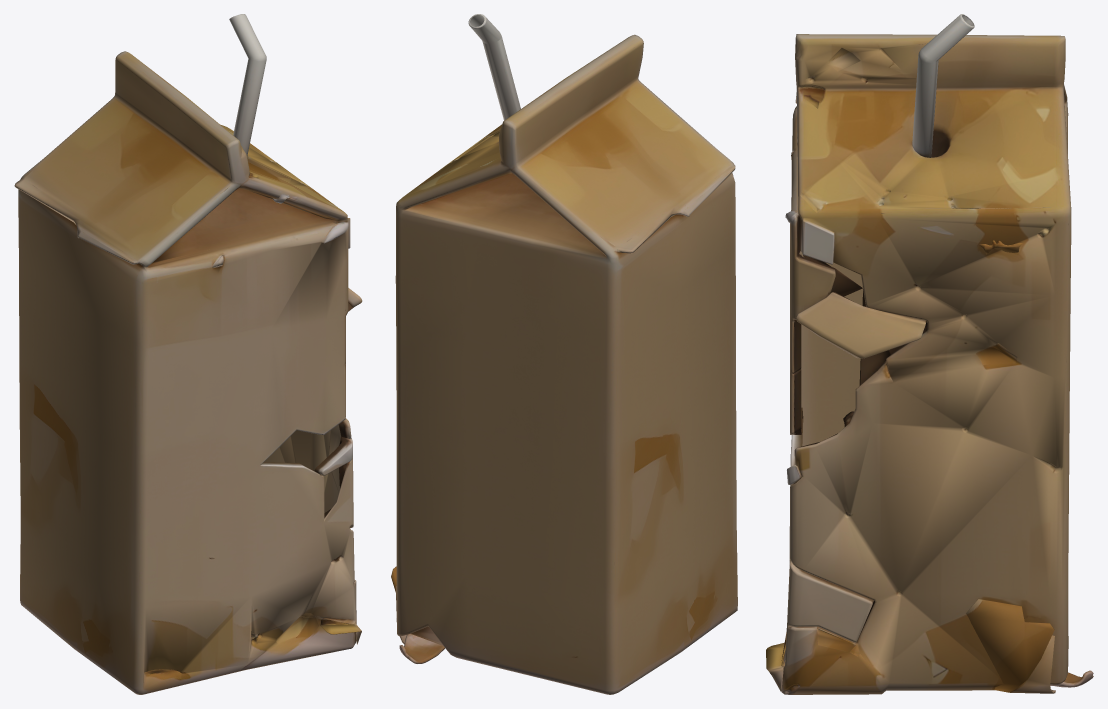
The model's file is carton-rot.glb.
The picture shows the model from 3 angles, left to right: view 1: azimuth 30°, elevation 25°; view 2: azimuth 150°, elevation 25°; view 3: azimuth 270°, elevation 25°; orthographic projection. The views are drawn at different scales.
Parts seen in each view (by area): view 1: tripo_node_73a496d5-6d54-4697-95f1-26d96079821b; view 2: tripo_node_73a496d5-6d54-4697-95f1-26d96079821b; view 3: tripo_node_73a496d5-6d54-4697-95f1-26d96079821b.
Boxes of the visible parts, x1,y1,x2,y2 form: tripo_node_73a496d5-6d54-4697-95f1-26d96079821b: (14, 14, 362, 694); tripo_node_73a496d5-6d54-4697-95f1-26d96079821b: (391, 14, 737, 694); tripo_node_73a496d5-6d54-4697-95f1-26d96079821b: (766, 14, 1093, 694).
Size of the model in its own units: 0.4302 by 0.9995 by 0.4468.
Materials: 1 (1 with a texture image).
